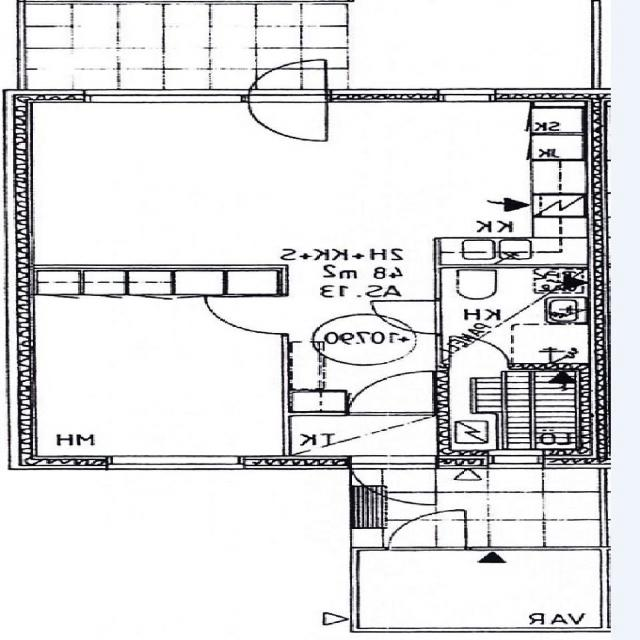door: (350, 456, 437, 512), (250, 50, 328, 103), (250, 89, 328, 141), (349, 371, 433, 416), (390, 509, 466, 551), (209, 297, 292, 333), (366, 300, 442, 334), (451, 335, 509, 369)
